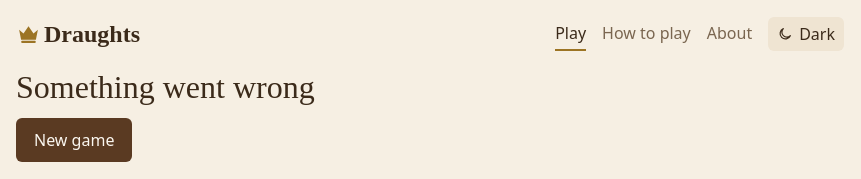
Test case: the page error boundary › shows 'Something went wrong' with New game, and the header and the other pages keep working
Expected: the heading "Something went wrong" is shown, x1=16 y1=69 x2=315 y2=105
Expected: the button "New game" is shown, x1=16 y1=118 x2=132 y2=162
Click the link "About".
click(730, 34)  # box x1=707 y1=17 x2=752 y2=51
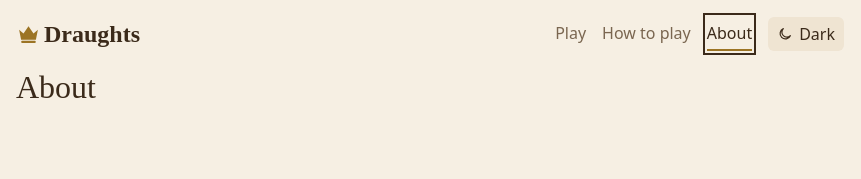
Now the heading "About" is shown, box x1=16 y1=69 x2=96 y2=105
Now the heading "Something went wrong" is gone
